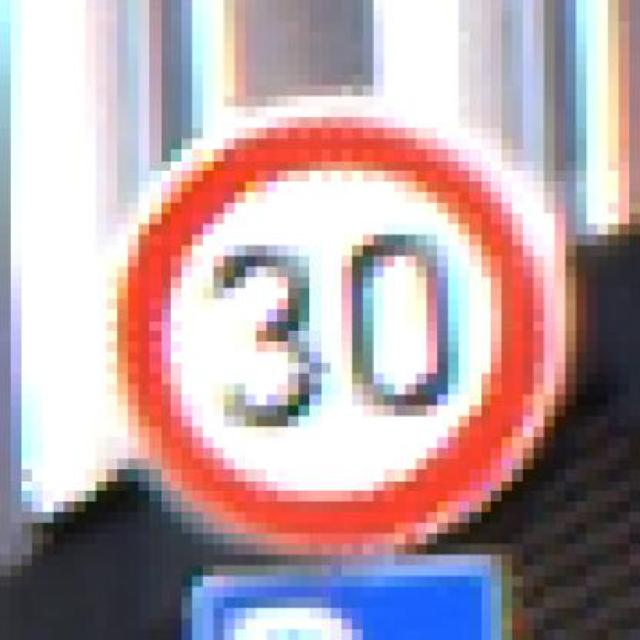Speed Limit 30 KMPh: (75, 86, 619, 554)
